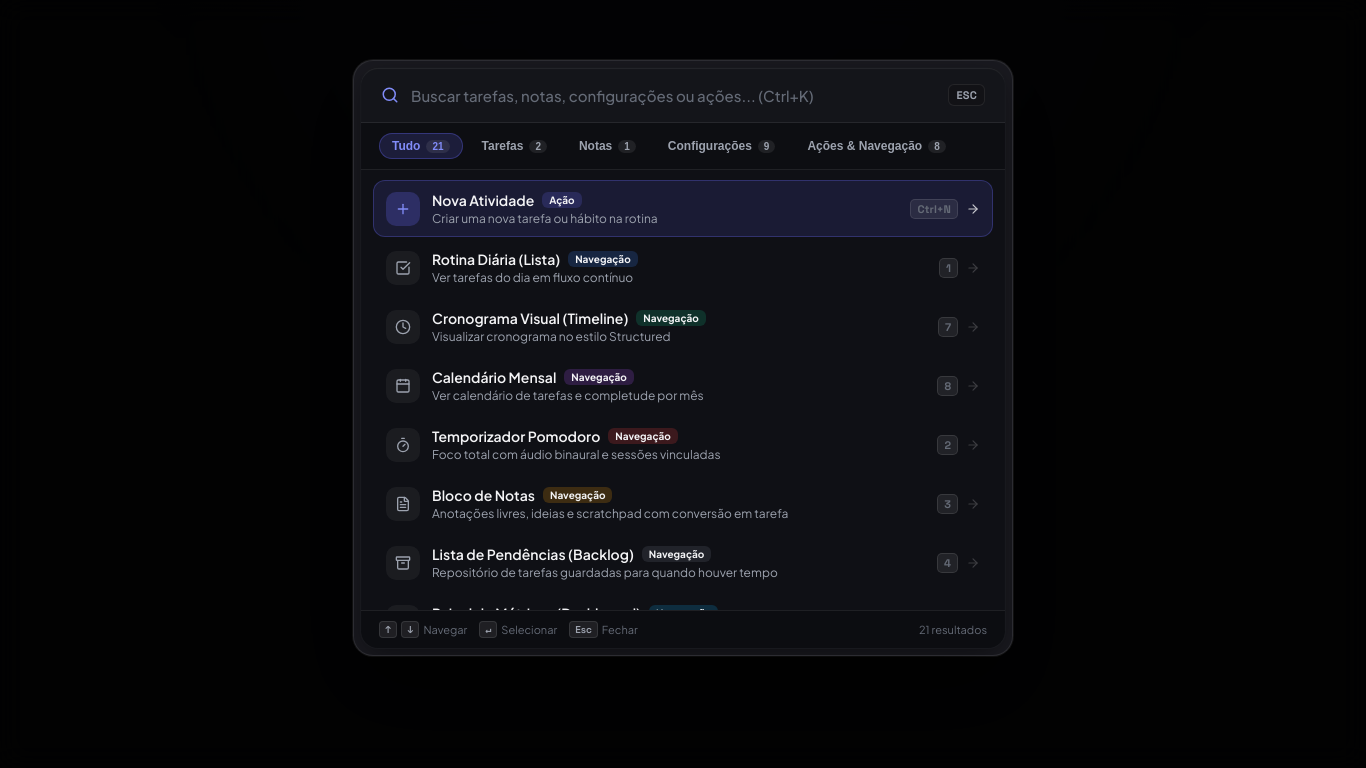
it: GlobalSearchModal Component › deve buscar e filtrar tarefas pelo título ou descrição
The image size is (1366, 768).
In the field with test id "global-search-input": (674, 95) [411, 84, 936, 106], type "academia"
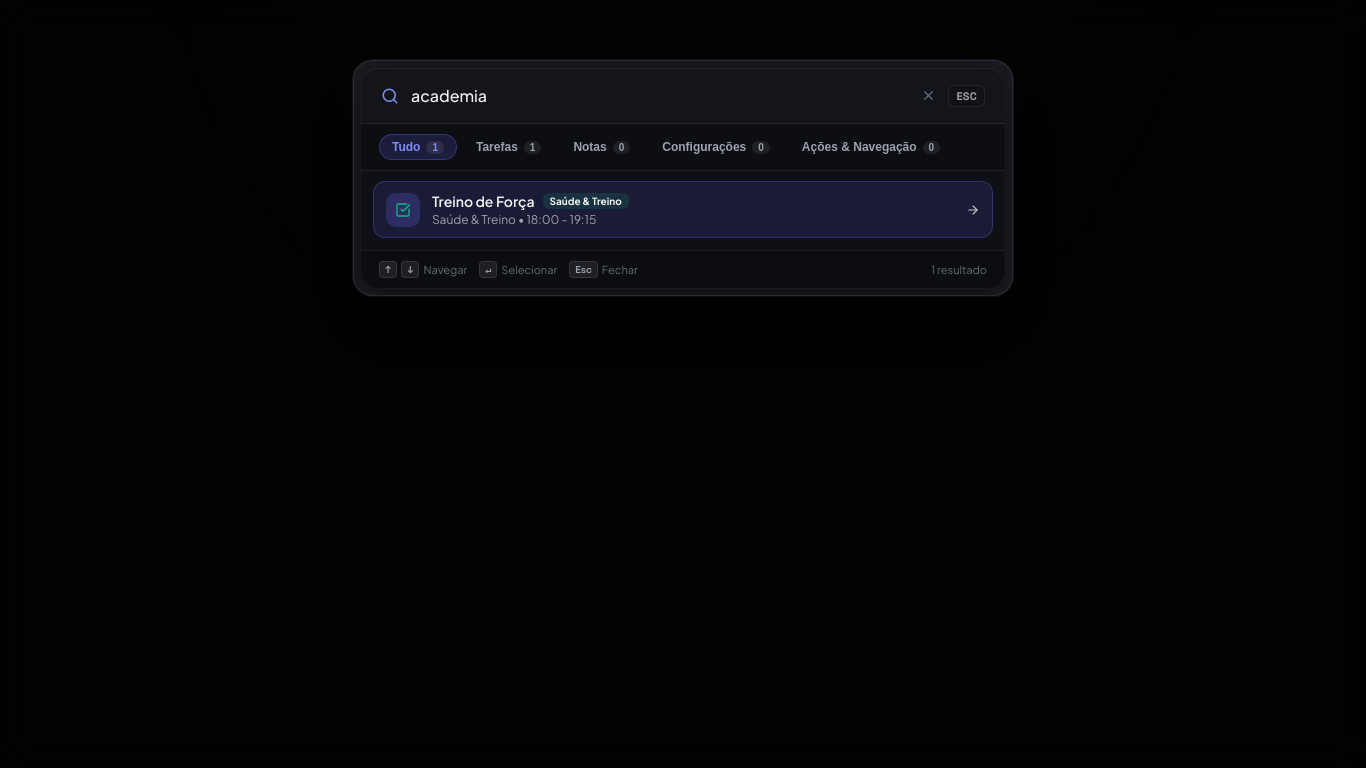
Result: the text "Treino de Força" is shown at [432, 192, 535, 210]
